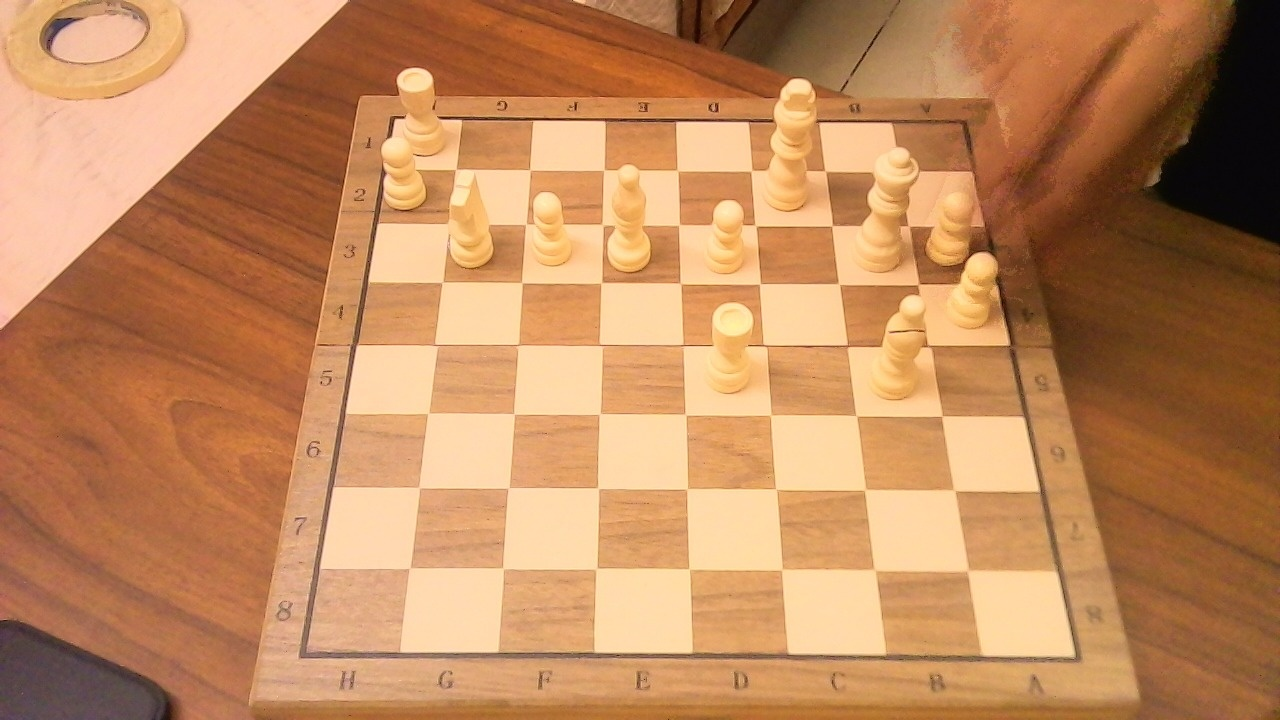B: (863, 283, 937, 405), (604, 153, 662, 276)
K: (758, 66, 826, 215)
N: (443, 162, 503, 272)
P: (941, 241, 1007, 333), (920, 181, 985, 270), (694, 189, 753, 279), (525, 182, 578, 272), (377, 128, 433, 212)
Q: (845, 135, 925, 277)
R: (694, 291, 763, 400), (392, 57, 452, 160)
